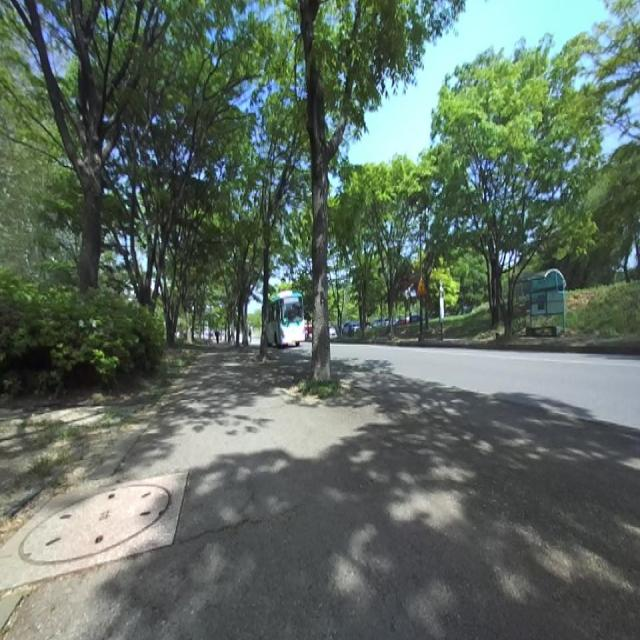sidewalk: (0, 348, 640, 639)
